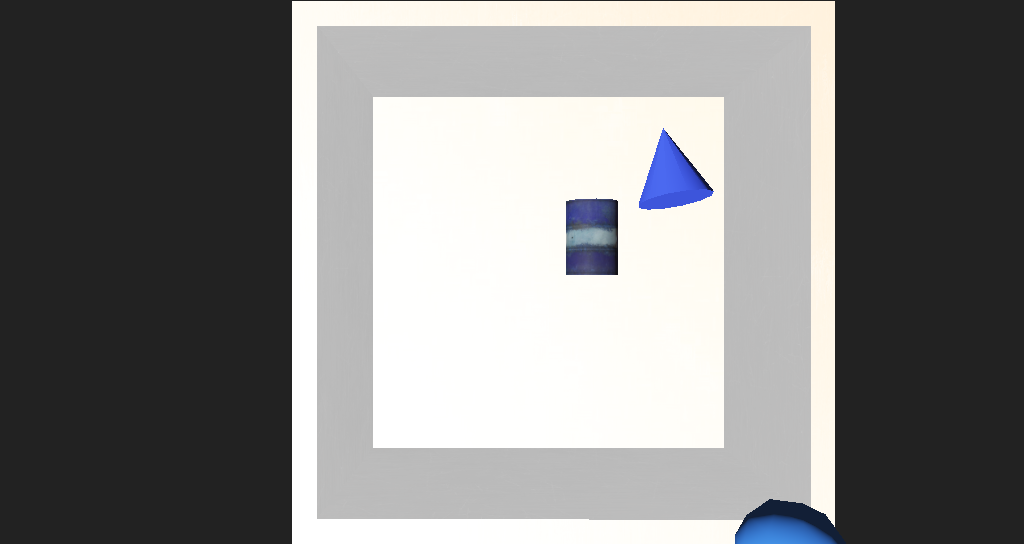cone: (522, 227, 569, 270)
cylinder: (566, 169, 647, 231)
sphere: (643, 398, 731, 460)
